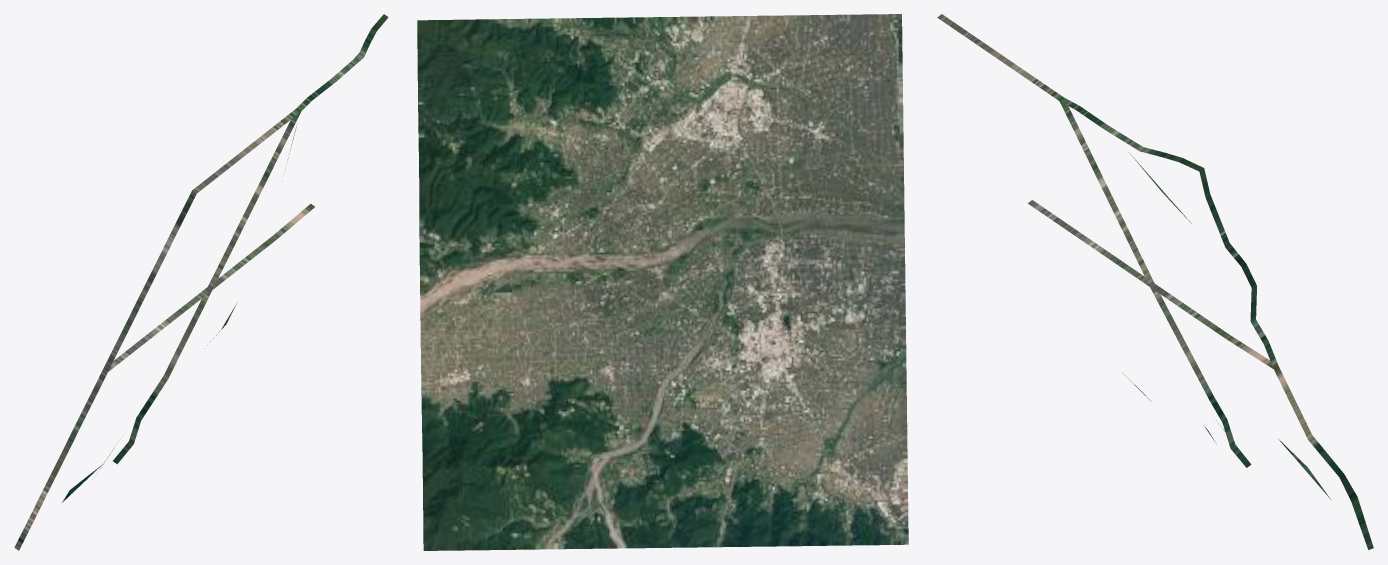
3 renders of one model, left to right at view 1: azimuth 30°, elevation 25°; view 2: azimuth 150°, elevation 25°; view 3: azimuth 270°, elevation 25°, orthographic. The views are drawn at different scales.
Bounding box in the file's own units: 19251 × 18276 × 16826.
Materials: 1 (1 with a texture image).
